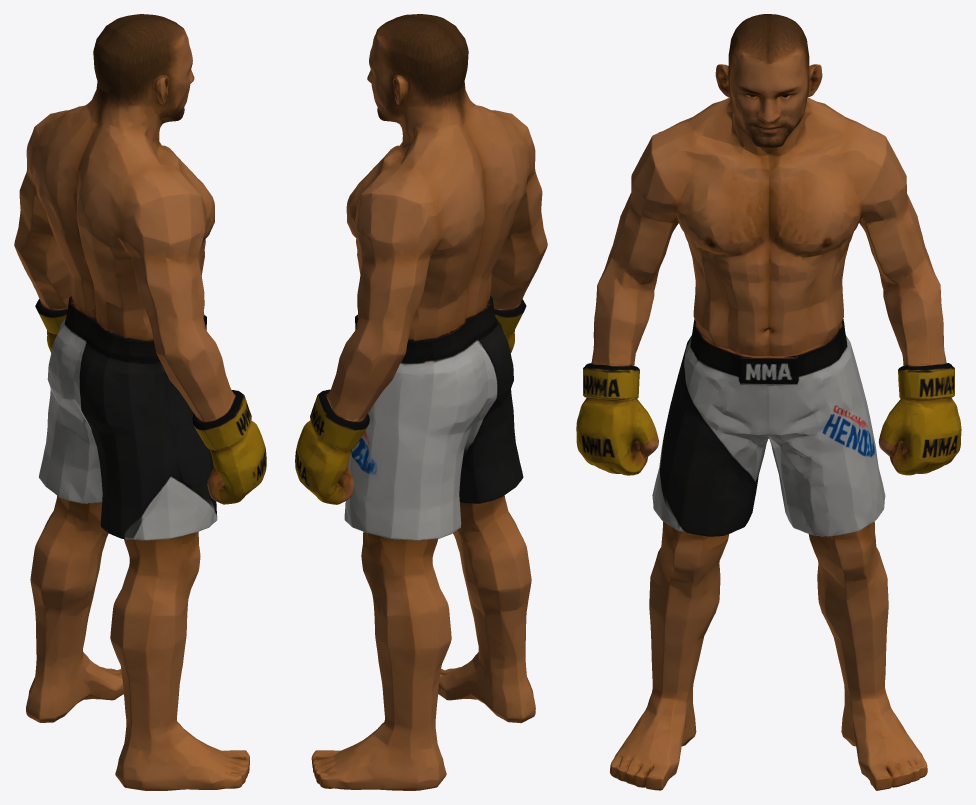
3 renders of one model, left to right at view 1: azimuth 30°, elevation 25°; view 2: azimuth 150°, elevation 25°; view 3: azimuth 270°, elevation 25°, orthographic. The views are drawn at different scales.
Parts seen in each view (by area): view 1: tripo_node_b27c866c-a642-44a1-a287-05e360c9ab85; view 2: tripo_node_b27c866c-a642-44a1-a287-05e360c9ab85; view 3: tripo_node_b27c866c-a642-44a1-a287-05e360c9ab85.
Part boxes in pixels (x1,y1,x2,y2): tripo_node_b27c866c-a642-44a1-a287-05e360c9ab85: (14,14,266,790); tripo_node_b27c866c-a642-44a1-a287-05e360c9ab85: (295,14,547,790); tripo_node_b27c866c-a642-44a1-a287-05e360c9ab85: (576,14,961,790).
Bounding box in the file's own units: 0.1888 × 1 × 0.4681.
1 material, 1 textured.
